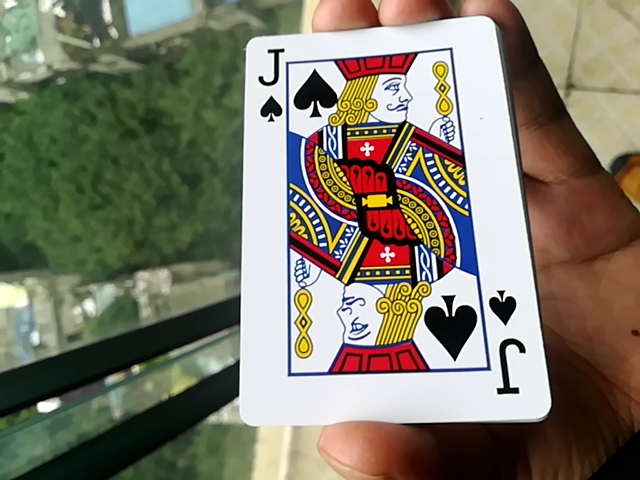ht j: (224, 11, 537, 423)
